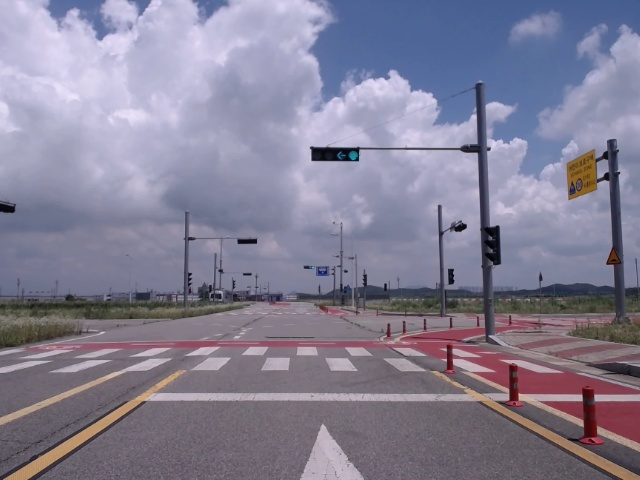all_green_4: (311, 146, 361, 162)
